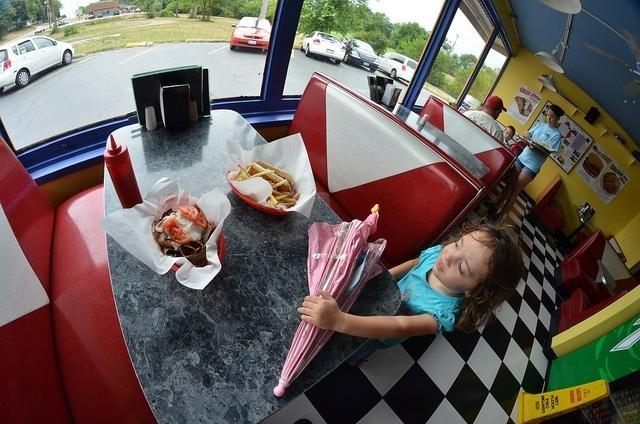car: (0, 36, 74, 92), (301, 32, 347, 66), (230, 18, 270, 52), (377, 52, 419, 83), (343, 38, 380, 72), (458, 94, 482, 113), (34, 25, 46, 34), (134, 6, 144, 13), (87, 14, 95, 20), (114, 10, 120, 16)
